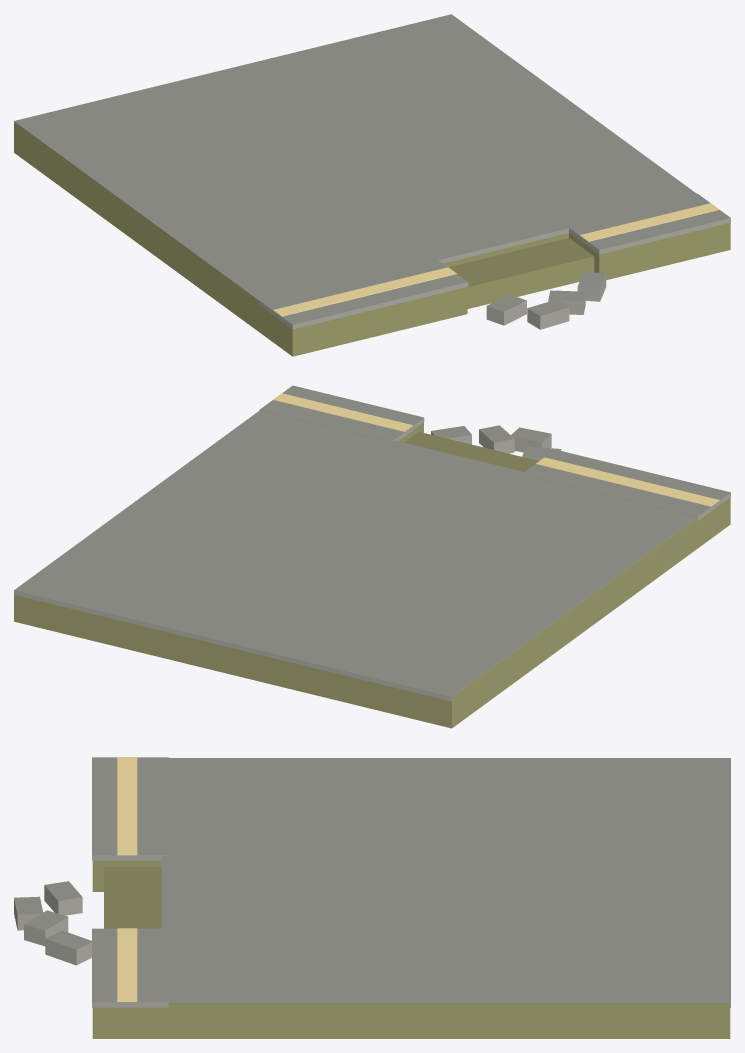
File: SM_KitAnden_F11_v2_LOD0.fbx
3 renders of one model, top to bottom at view 1: azimuth 30°, elevation 25°; view 2: azimuth 150°, elevation 25°; view 3: azimuth 270°, elevation 25°, orthographic. The views are drawn at different scales.
Visible parts, largest first — view 1: SM_kit_anden_v2_LOD0; view 2: SM_kit_anden_v2_LOD0; view 3: SM_kit_anden_v2_LOD0.
Part boxes in pixels (x1,y1,x2,y2): SM_kit_anden_v2_LOD0: (14,14,730,356); SM_kit_anden_v2_LOD0: (14,385,730,728); SM_kit_anden_v2_LOD0: (14,757,730,1038).
Size of the model in its own units: 9.99 by 0.71 by 12.36.
